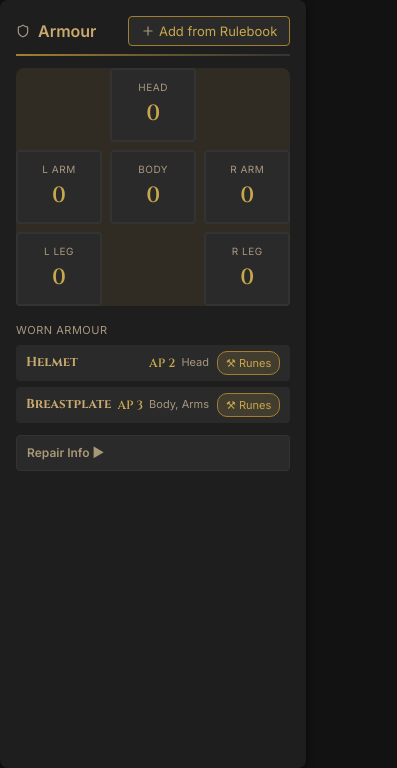
Test: ArmourMap — location selection › shows contributing armour items when a location is selected
Click the button with test id "location-head": (153, 105) [110,68,196,142]
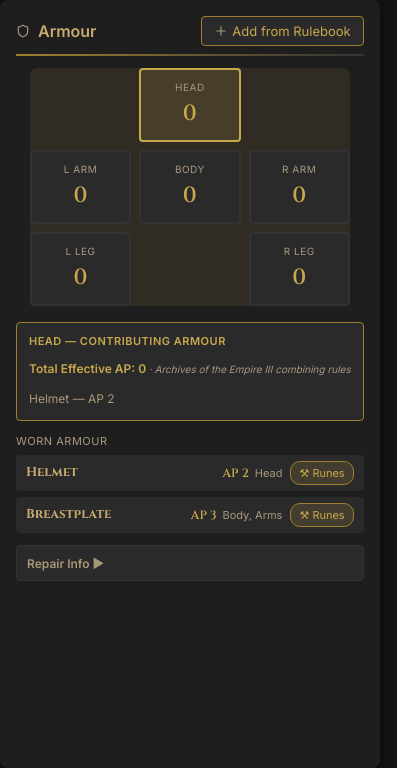
Expected: the element with test id "contributing-armour" does not show "Breastplate", [16,322,364,420]
Now the element with test id "contributing-armour" shows "Helmet", box [29,390,69,406]
